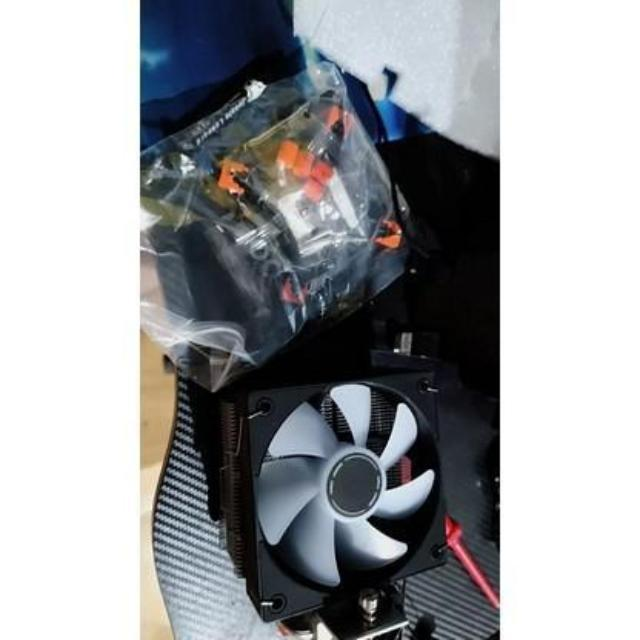CPU_Fan: (199, 338, 447, 626)
